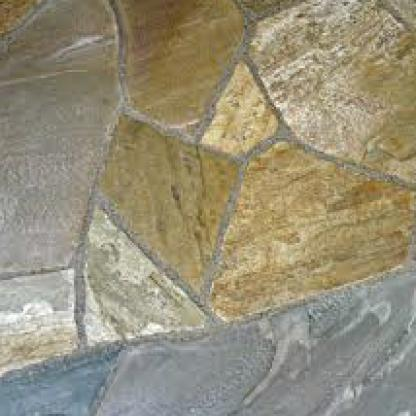Metamorphic_Quartize: (241, 0, 414, 185), (93, 105, 237, 290)
